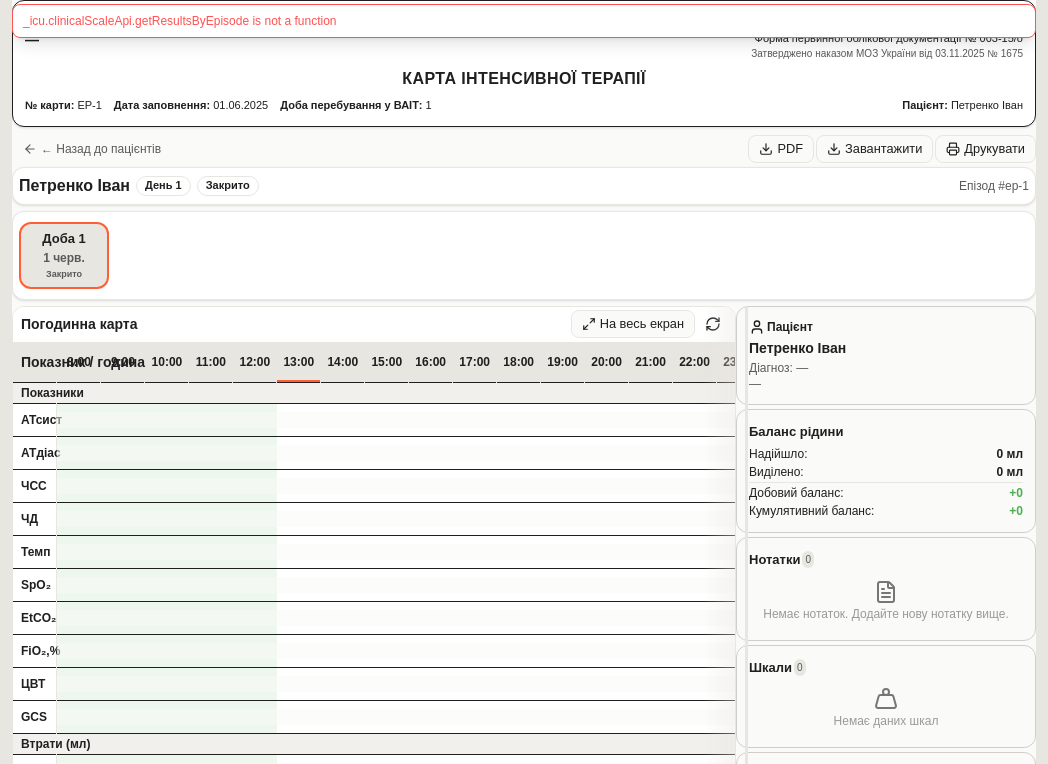
Test: PatientDayPage › closed-day PDF download/print (no MIS transfer) › prints the stored PDF bytes on print click
Click the button "Друкувати" at [986, 148], box [935,134,1036,162]
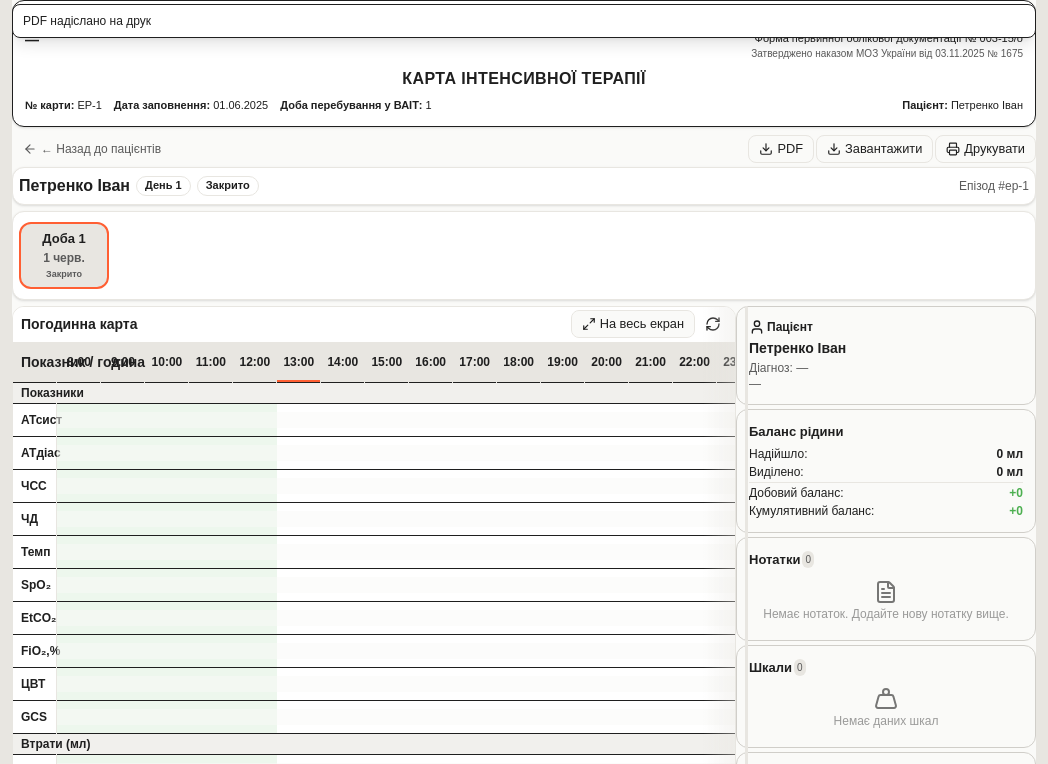
Check: the text "PDF надіслано на друк" is shown, box [12,4,1036,38]
